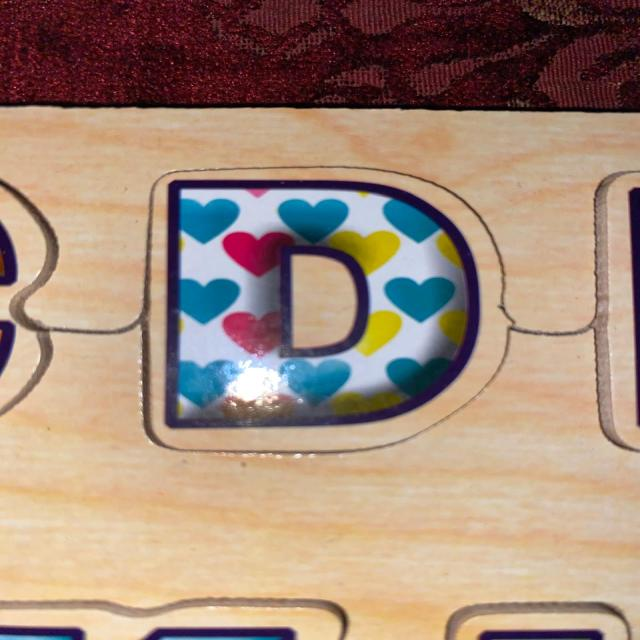D: (159, 179, 479, 432)
